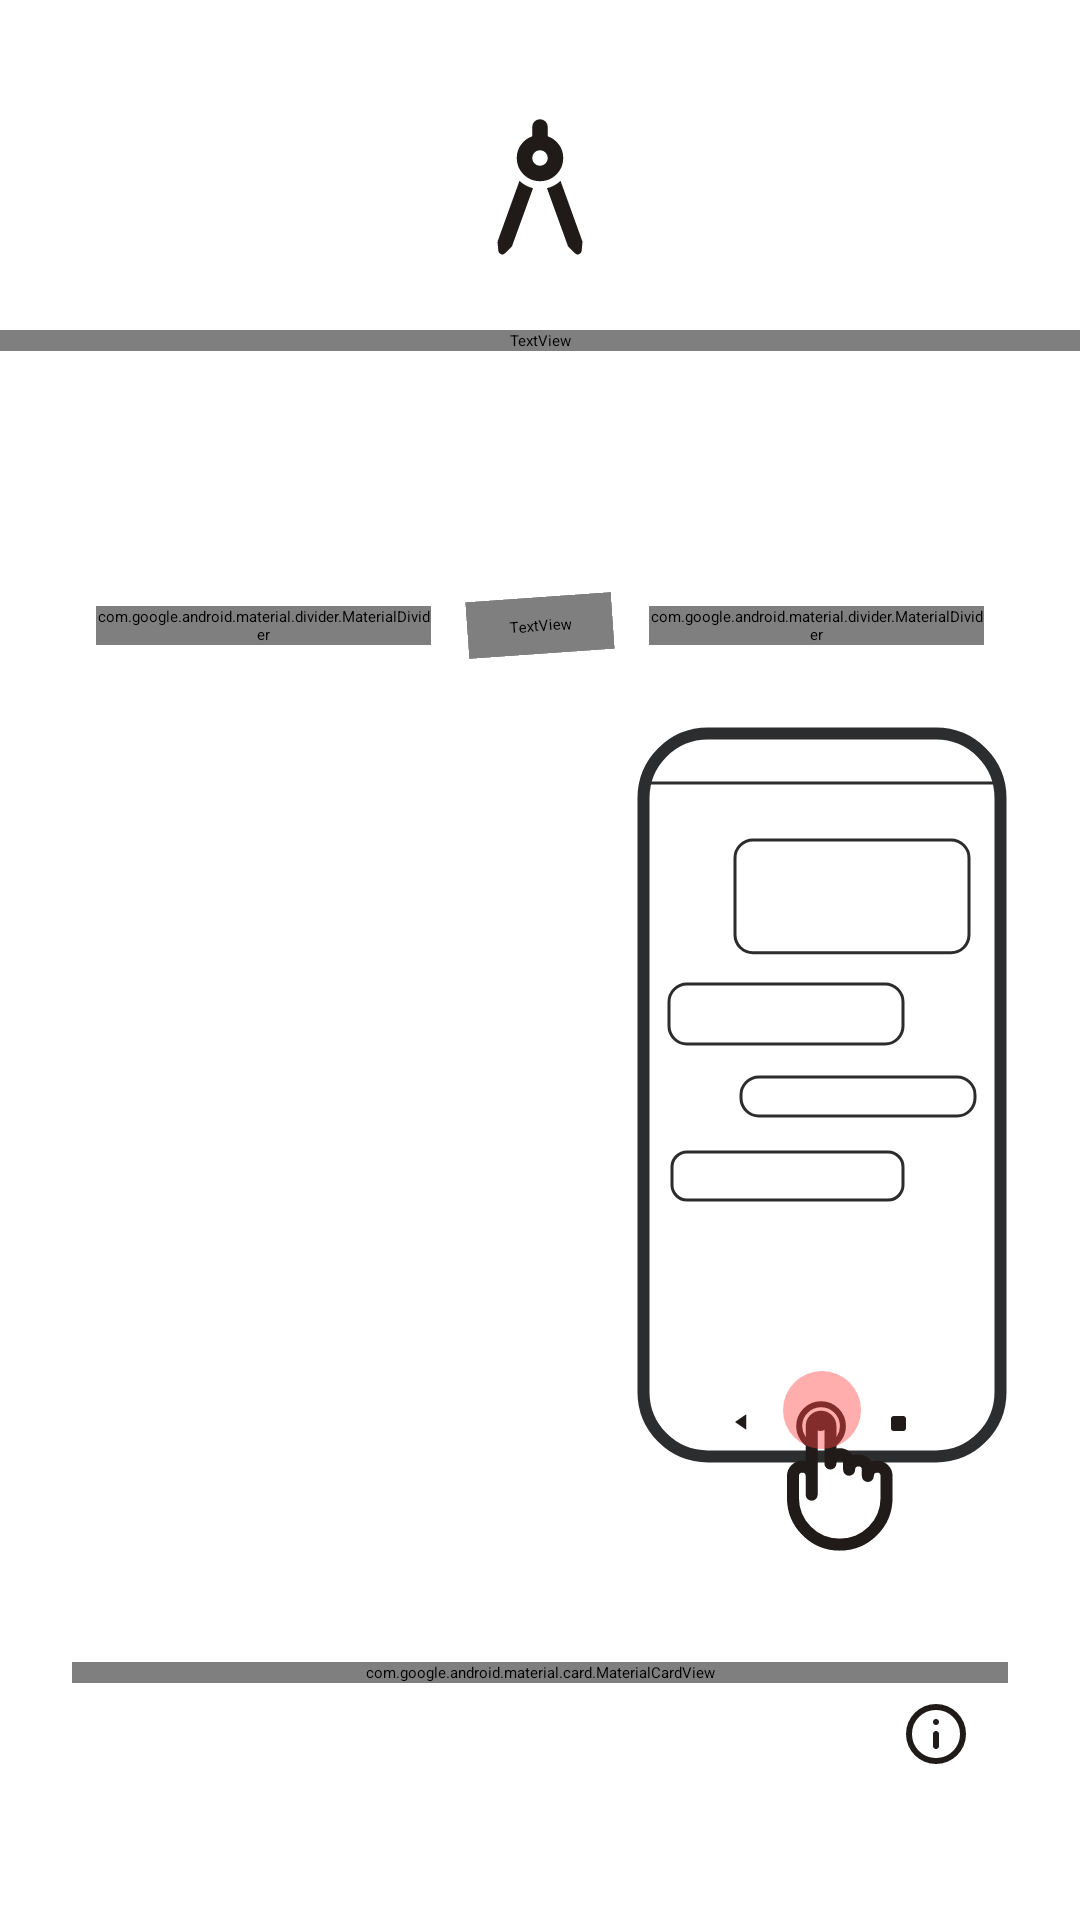

Point at icon controls on the screen. Image size 1080w x 1920h, points as [x,y].
architecture: [540,187]
info: [936,1734]
